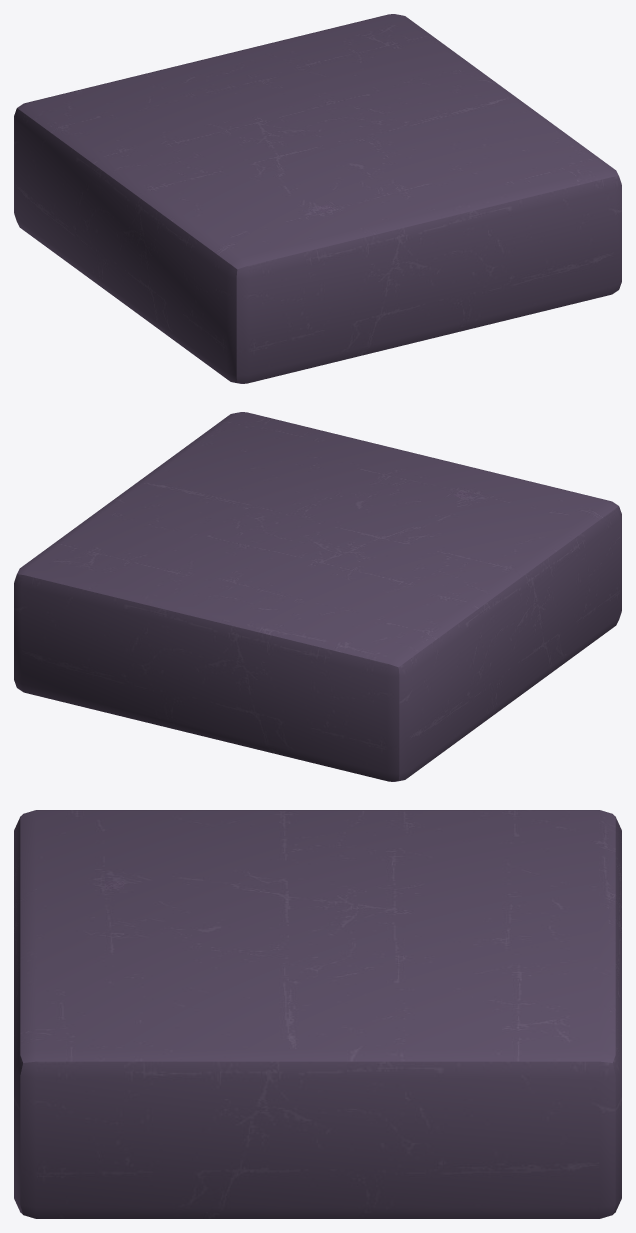
Rendered from vol_ground_basalt_a.glb.
3 renders of one model, top to bottom at view 1: azimuth 30°, elevation 25°; view 2: azimuth 150°, elevation 25°; view 3: azimuth 270°, elevation 25°, orthographic. The views are drawn at different scales.
Parts seen in each view (by area): view 1: vol_ground_basalt_a; view 2: vol_ground_basalt_a; view 3: vol_ground_basalt_a.
Part boxes in pixels (left/top/right/bottom): vol_ground_basalt_a: left=14, top=14, right=621, bottom=383; vol_ground_basalt_a: left=14, top=412, right=621, bottom=781; vol_ground_basalt_a: left=14, top=810, right=621, bottom=1218.
Bounding box in the file's own units: 0.98 × 0.3 × 0.98.
Materials: 1 (1 with a texture image).
